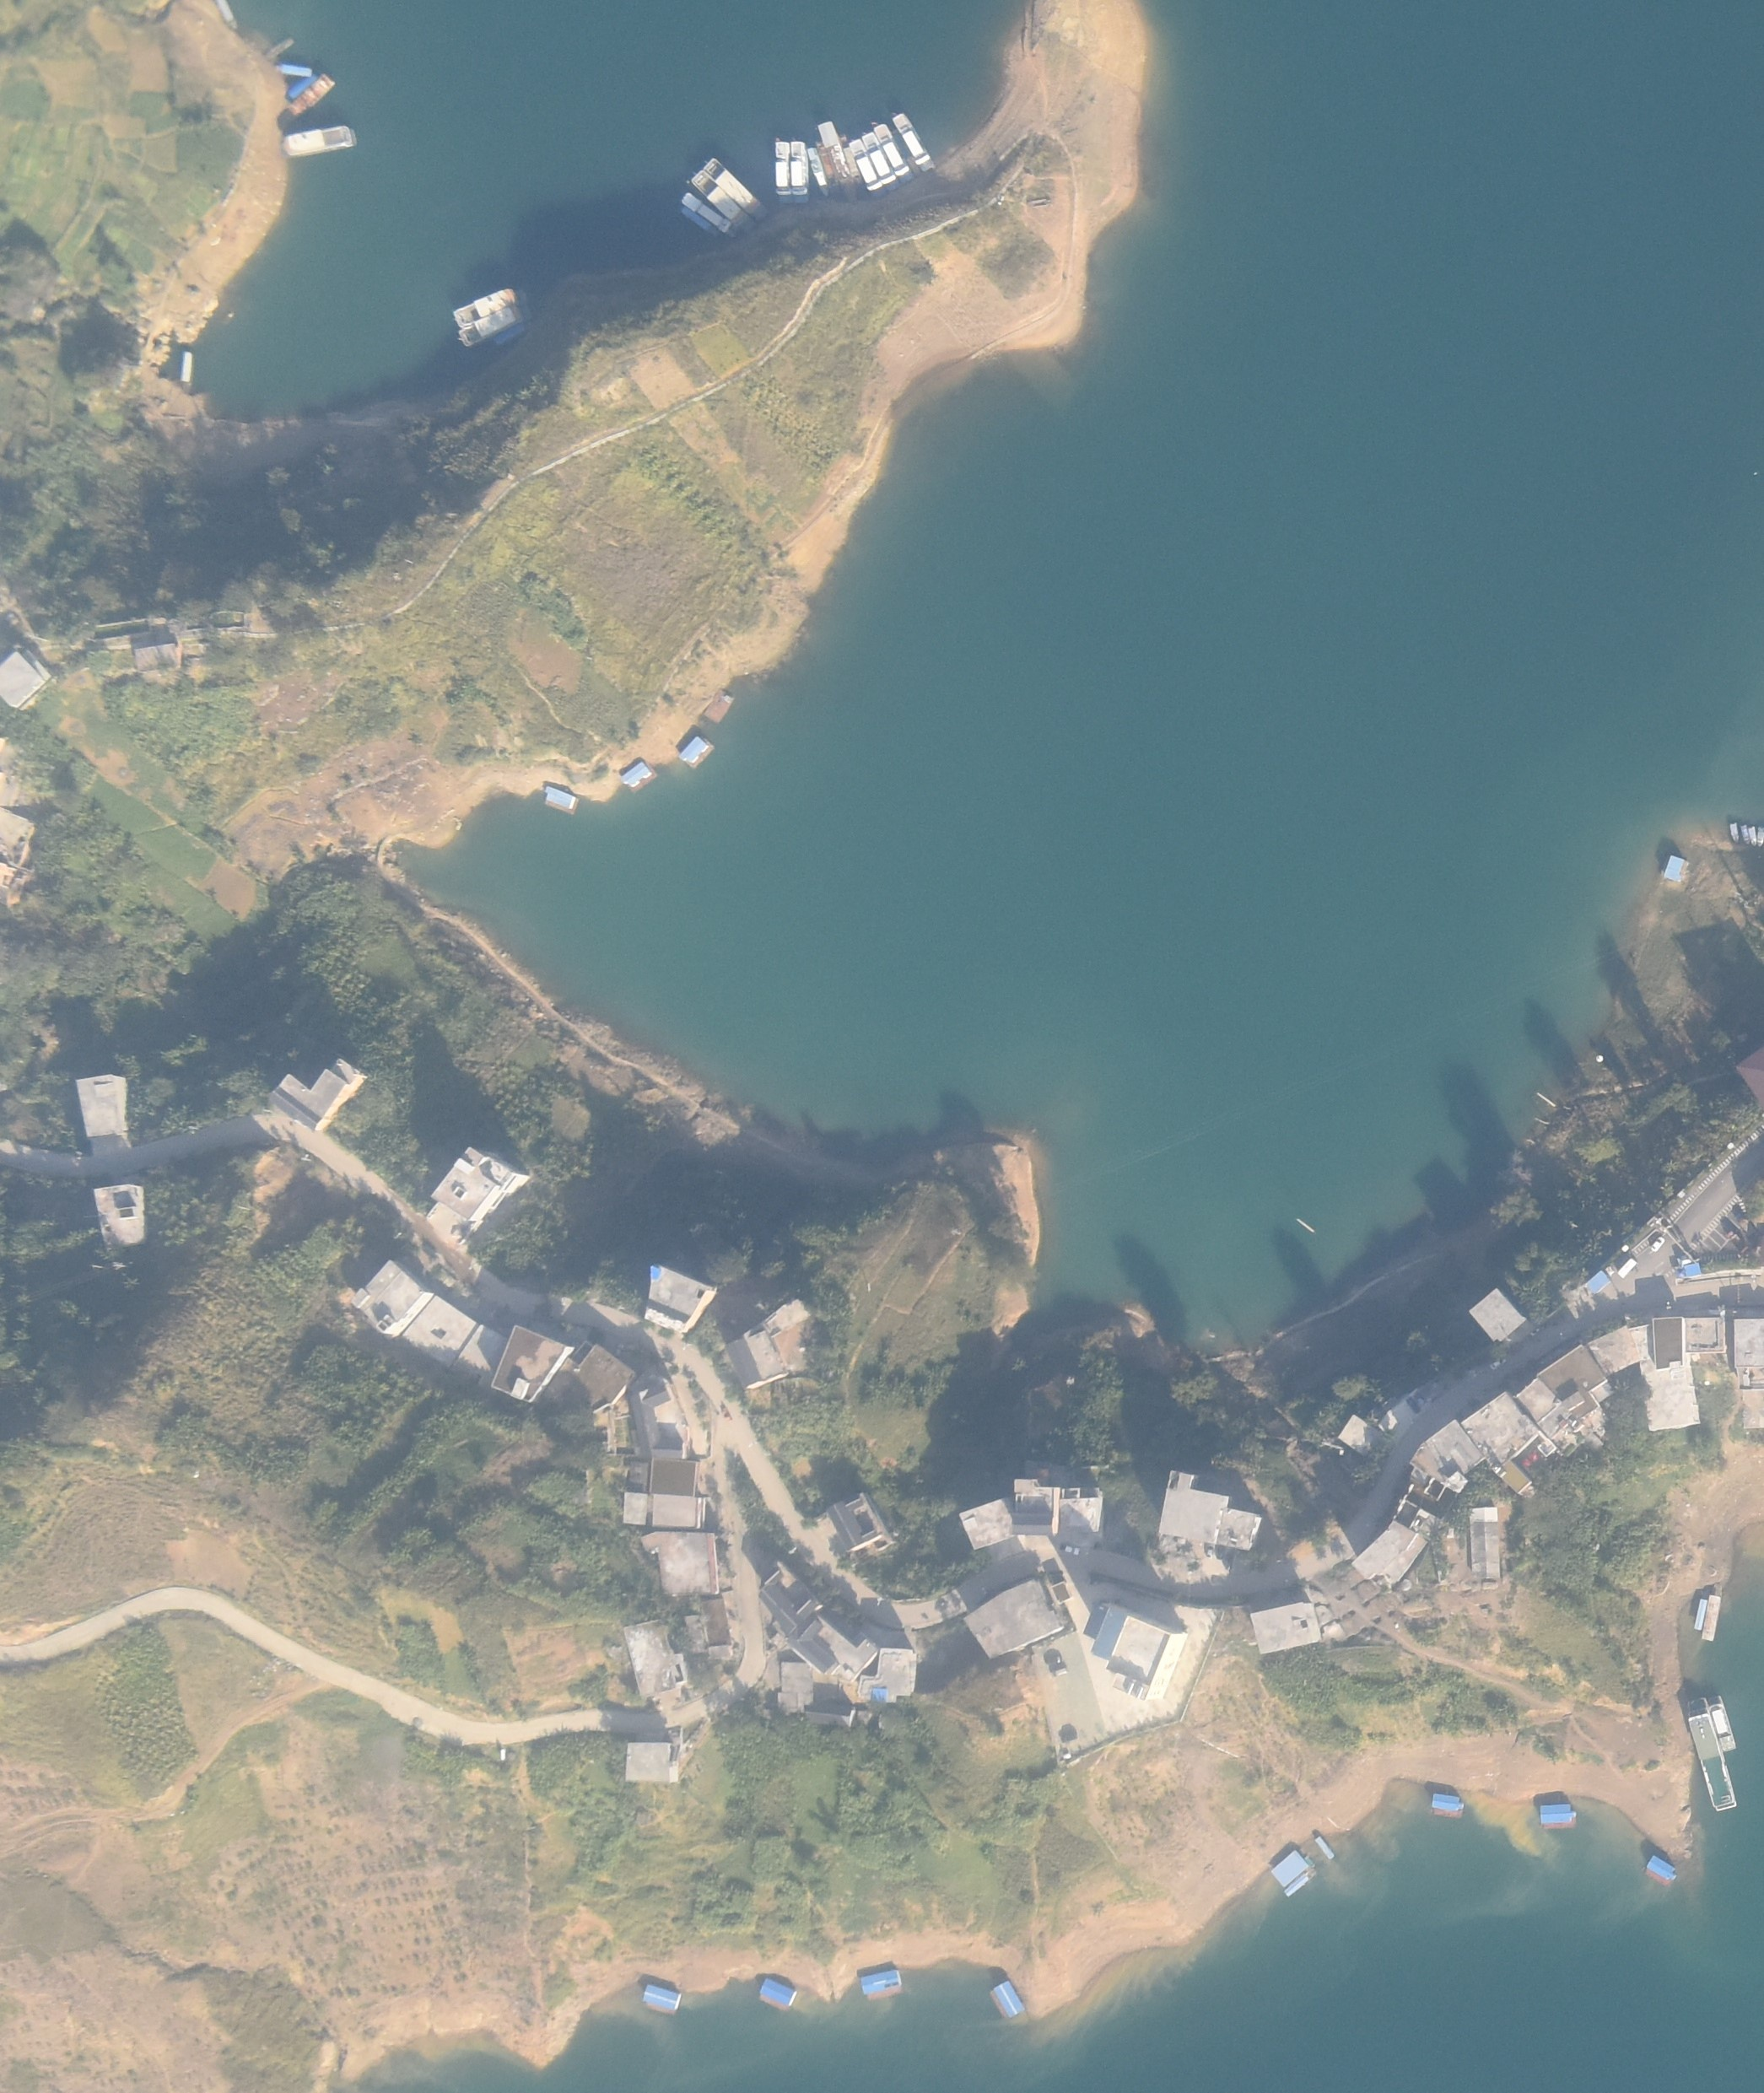building: (423, 1146, 528, 1243), (1091, 1600, 1187, 1704), (1513, 1346, 1608, 1450), (1460, 1394, 1557, 1492), (962, 1575, 1072, 1659), (722, 1293, 820, 1387), (1157, 1470, 1259, 1551), (1588, 1315, 1727, 1370), (275, 1055, 368, 1127), (492, 1323, 575, 1403), (351, 1260, 428, 1339), (623, 1458, 707, 1529), (790, 1616, 879, 1683), (1411, 1418, 1485, 1492), (404, 1295, 474, 1373), (623, 1616, 689, 1697), (1351, 1519, 1431, 1584), (643, 1262, 715, 1332), (570, 1336, 635, 1412), (645, 1529, 719, 1596), (758, 1562, 822, 1633), (637, 1376, 688, 1461), (1378, 1375, 1443, 1438), (827, 1492, 894, 1552), (1252, 1599, 1322, 1653), (855, 1643, 918, 1703), (456, 1321, 508, 1390), (95, 1184, 146, 1252), (1734, 1315, 1764, 1429), (75, 1074, 126, 1137), (684, 1593, 731, 1659), (958, 1497, 1017, 1551), (1470, 1287, 1525, 1342), (1, 650, 49, 714), (1011, 1475, 1060, 1537), (2, 809, 33, 904), (1467, 1507, 1502, 1581), (625, 1739, 681, 1783), (1059, 1485, 1104, 1536), (129, 628, 179, 672), (774, 1661, 815, 1713), (1738, 1035, 1764, 1109), (1338, 1412, 1383, 1455), (809, 1698, 856, 1727), (613, 1415, 633, 1458), (499, 1747, 507, 1764)
prefabricated-house: (993, 1982, 1028, 2021), (1270, 1850, 1308, 1886), (860, 1970, 903, 2000), (643, 1982, 680, 2014), (704, 688, 733, 724), (1646, 1853, 1678, 1884), (677, 736, 709, 766), (760, 1978, 795, 2007), (543, 782, 575, 813), (617, 760, 650, 789), (1431, 1792, 1466, 1818), (1539, 1805, 1578, 1826), (1663, 855, 1686, 883), (1586, 1270, 1610, 1293), (1681, 1260, 1701, 1277)
ship: (1691, 1692, 1738, 1812), (689, 170, 756, 235), (702, 156, 764, 225), (819, 121, 858, 201), (450, 287, 525, 326), (859, 132, 901, 192), (452, 305, 517, 343), (893, 113, 933, 175), (873, 124, 912, 186), (282, 122, 355, 154), (283, 73, 335, 116), (682, 191, 731, 232), (848, 139, 882, 193), (1709, 1691, 1736, 1754), (789, 140, 810, 205), (818, 142, 842, 198), (677, 207, 718, 239), (806, 146, 829, 198), (844, 144, 867, 197), (1702, 1590, 1721, 1642), (774, 138, 789, 204), (214, 1, 239, 37), (266, 35, 295, 63), (287, 75, 317, 102), (490, 324, 524, 346), (274, 60, 313, 78), (1535, 1087, 1556, 1113), (1314, 1836, 1335, 1862), (180, 350, 192, 392), (1294, 1214, 1318, 1234), (1695, 1593, 1707, 1630), (1728, 822, 1738, 844), (1748, 825, 1757, 849), (1741, 821, 1749, 843), (1758, 825, 1764, 849)
vehicle: (1618, 1256, 1638, 1278), (1062, 1544, 1082, 1558), (1491, 1356, 1507, 1369), (1653, 1235, 1664, 1253), (1053, 1664, 1068, 1677), (1064, 1750, 1072, 1762)
